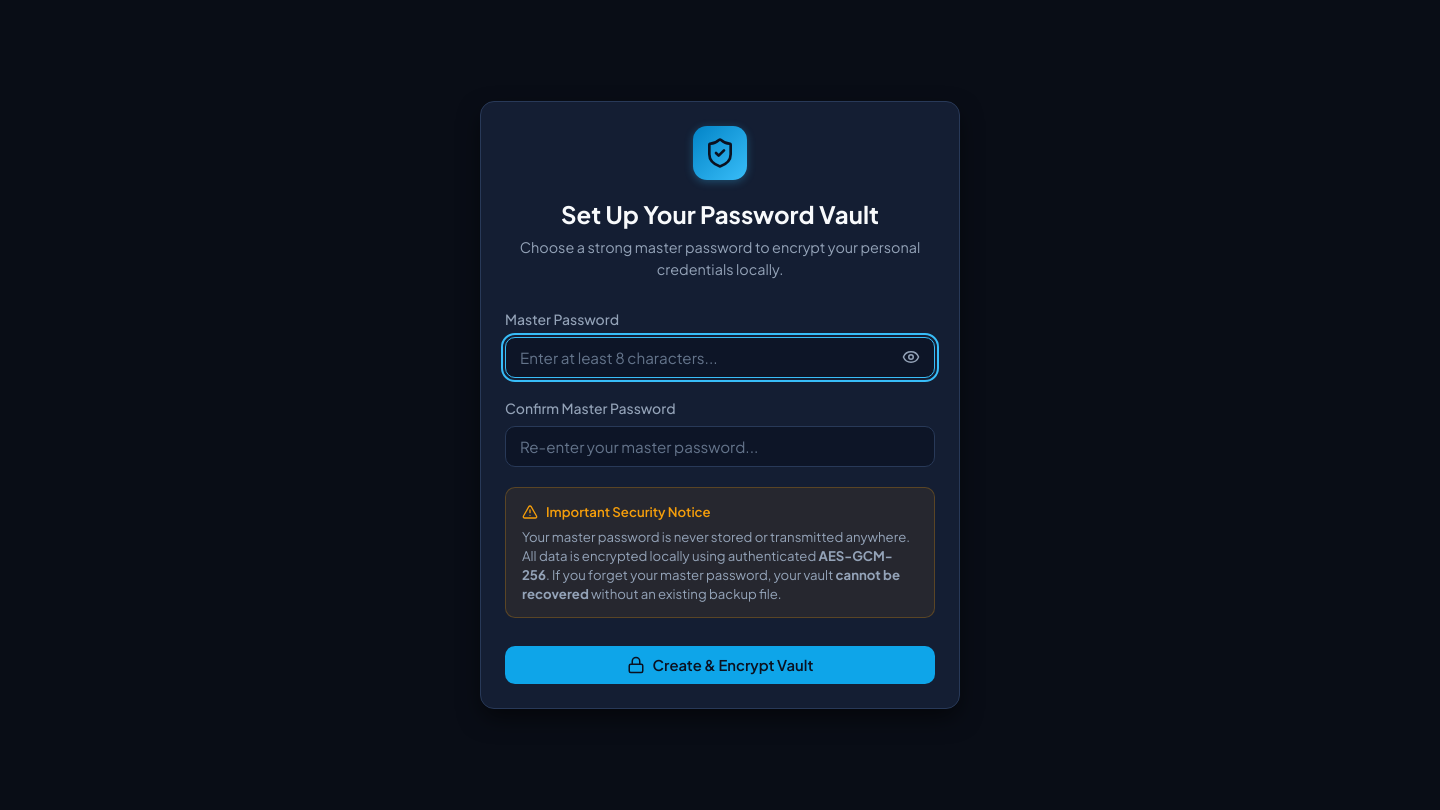
Test case: Vault End-to-End & Component Integration Tests › sets up a new vault with master password, unlocking into the dashboard
In the password field with placeholder "Enter at least 8 characters...": (720, 357) x1=505 y1=337 x2=935 y2=378, type "MySecureMasterPassword123!"
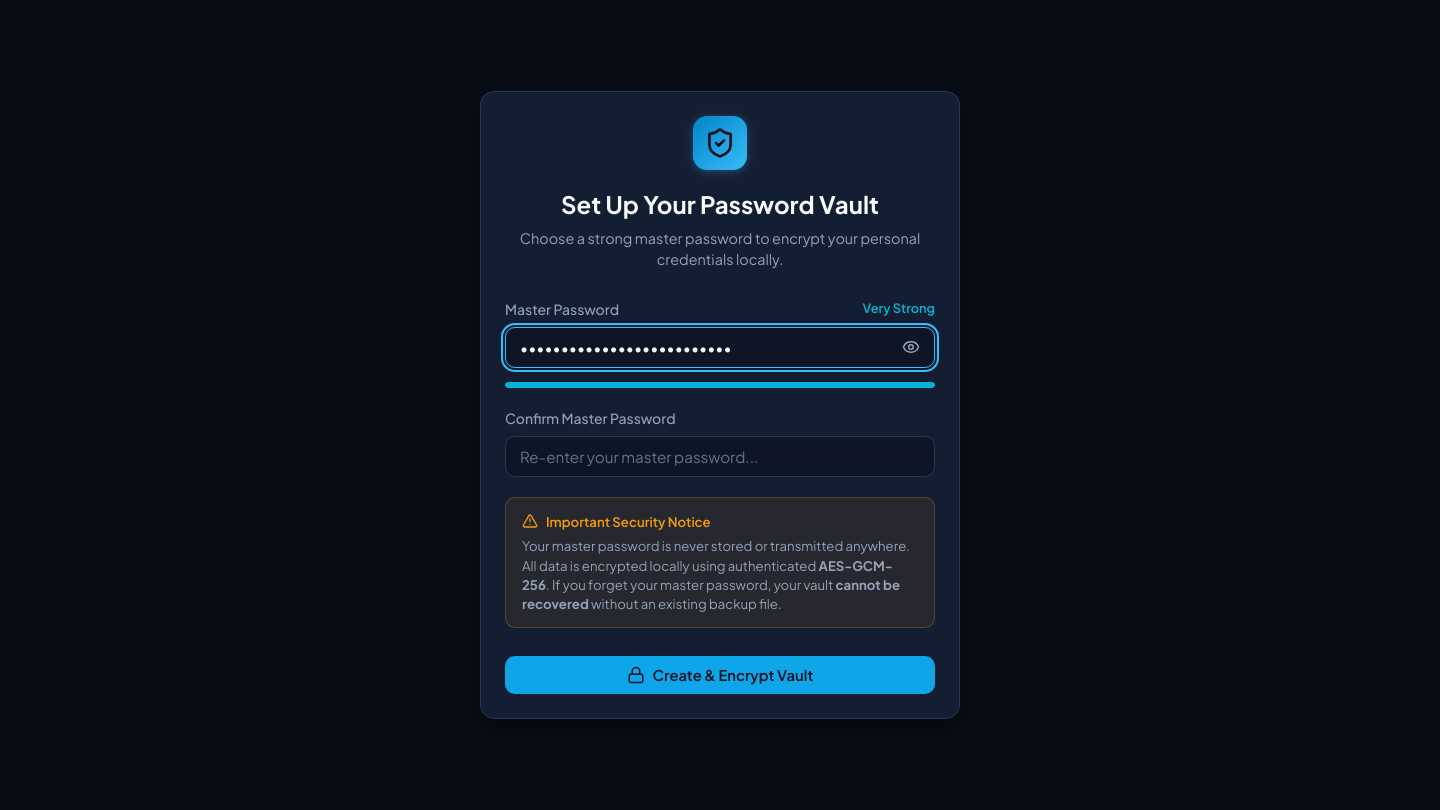
In the password field with placeholder "Re-enter your master password...": (720, 456) x1=505 y1=436 x2=935 y2=477, type "MySecureMasterPassword123!"
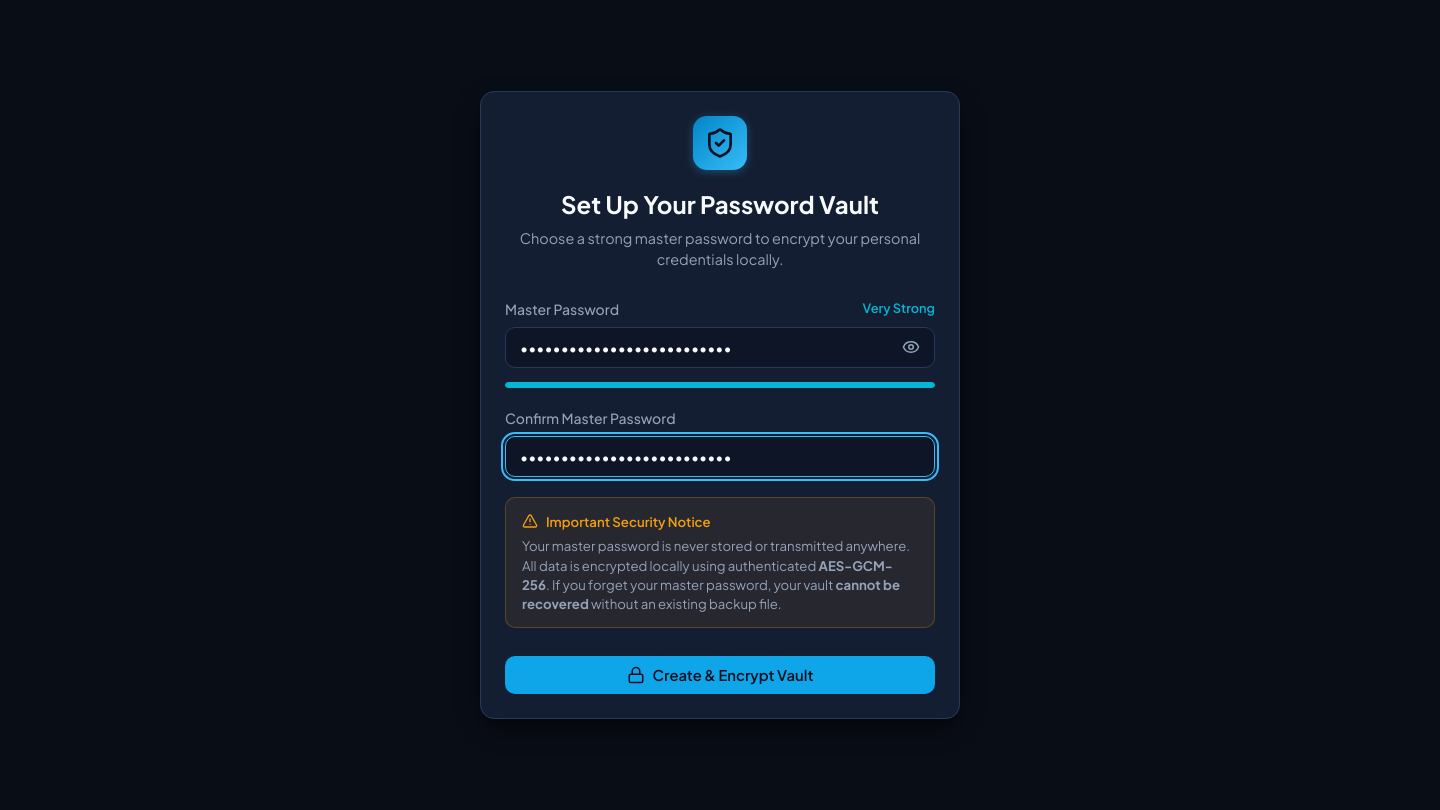
Click the button "Create & Encrypt Vault": (720, 675) x1=505 y1=656 x2=935 y2=694
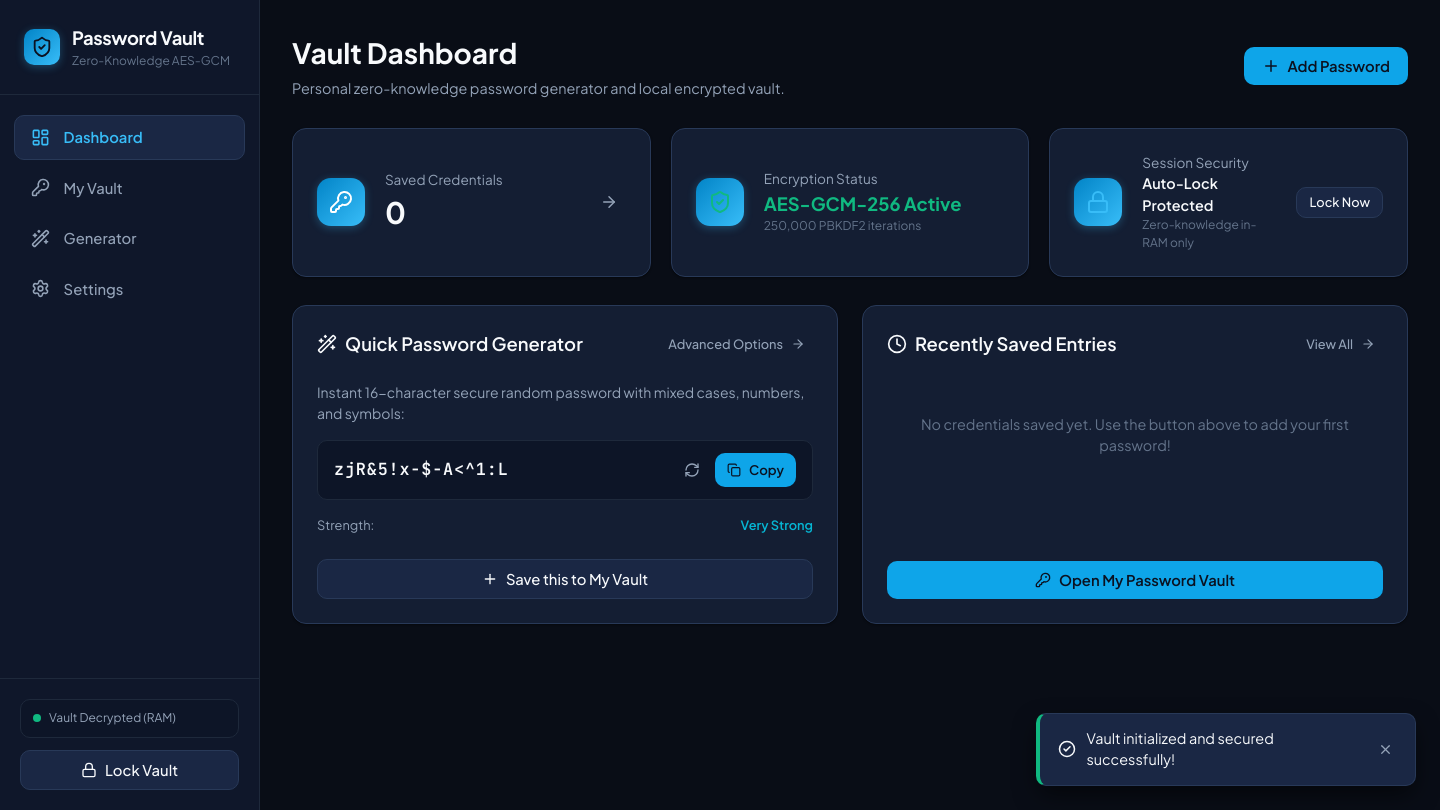
Result: the heading "Vault Dashboard" is shown at x1=292 y1=35 x2=517 y2=70
Result: the text "Saved Credentials" is shown at x1=385 y1=171 x2=503 y2=188
